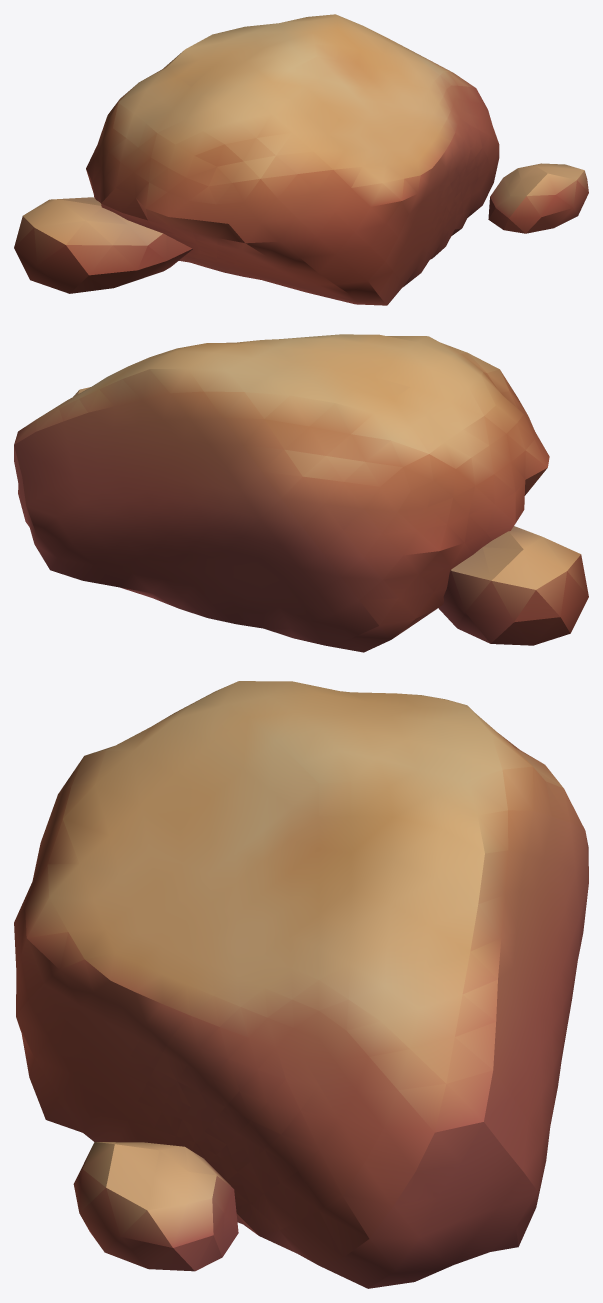
File: amber_rock_chunk_a.glb
3 renders of one model, top to bottom at view 1: azimuth 30°, elevation 25°; view 2: azimuth 150°, elevation 25°; view 3: azimuth 270°, elevation 25°, orthographic. The views are drawn at different scales.
Visible parts, largest first — view 1: amber_rock_chunk_a; view 2: amber_rock_chunk_a; view 3: amber_rock_chunk_a.
Boxes of the visible parts, box(x1,y1,x2,y2) form: amber_rock_chunk_a: box(14, 14, 588, 305); amber_rock_chunk_a: box(14, 334, 588, 652); amber_rock_chunk_a: box(14, 681, 588, 1288).
Bounding box in the file's own units: 2.69 × 1.06 × 1.5.
